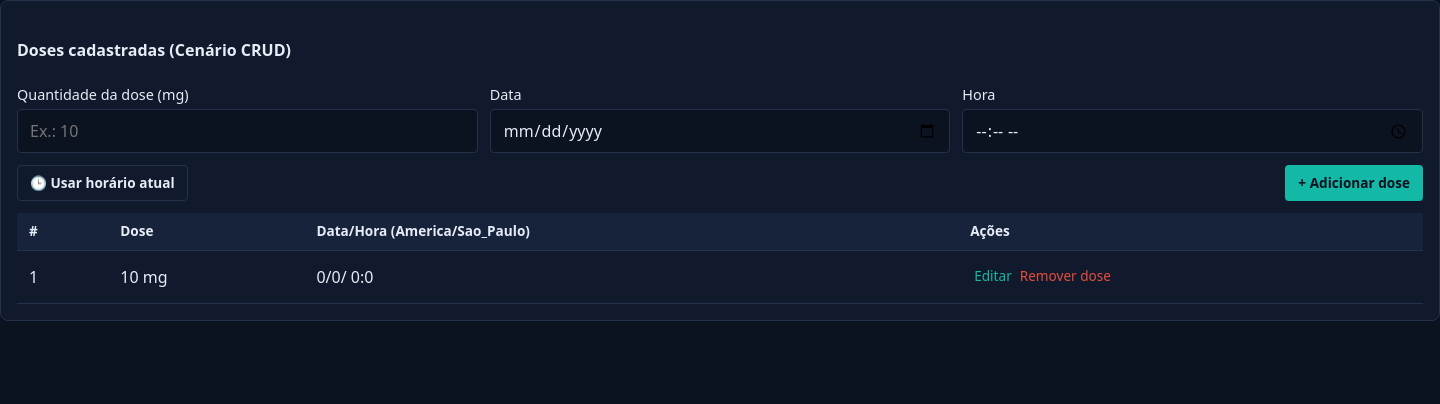
it: E9.2 Regressions RED Phase › Blocker 3 — CRUD de Doses Transacional › ao falhar a adição de nova dose, preserva o draft
Note: Preenche nova dose
Type "50" into the field labelled "Quantidade da dose (mg)" at (247, 131), box [17,109,478,153]
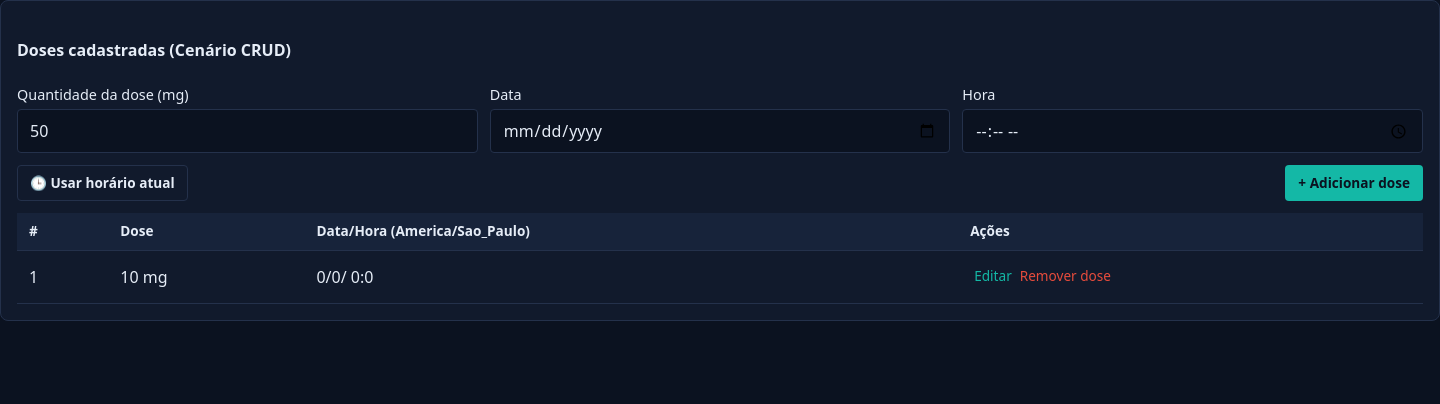
Type "2026-09-02" into the date field labelled "Data" at (720, 131), box [490,109,950,153]
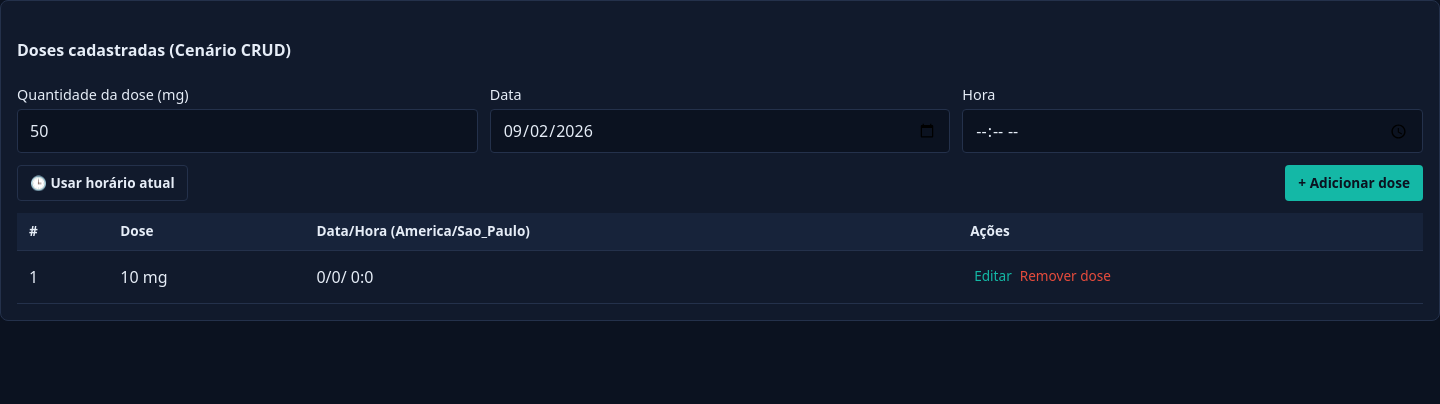
Type "10:00" into the time field labelled "Hora" at (1193, 131), box [962,109,1423,153]
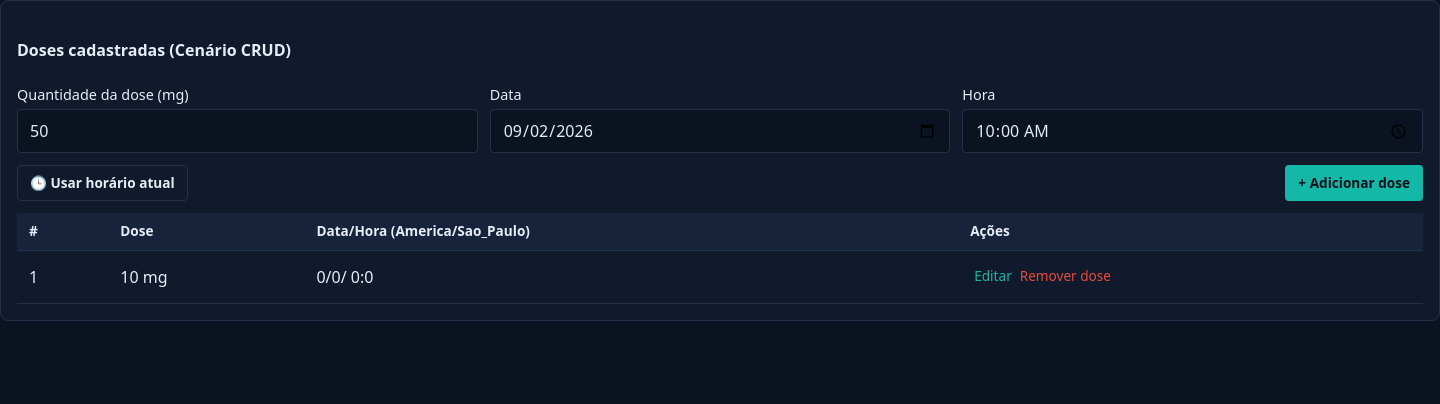
Click the button "+ Adicionar dose" at (1354, 183), box [1285,165,1423,201]
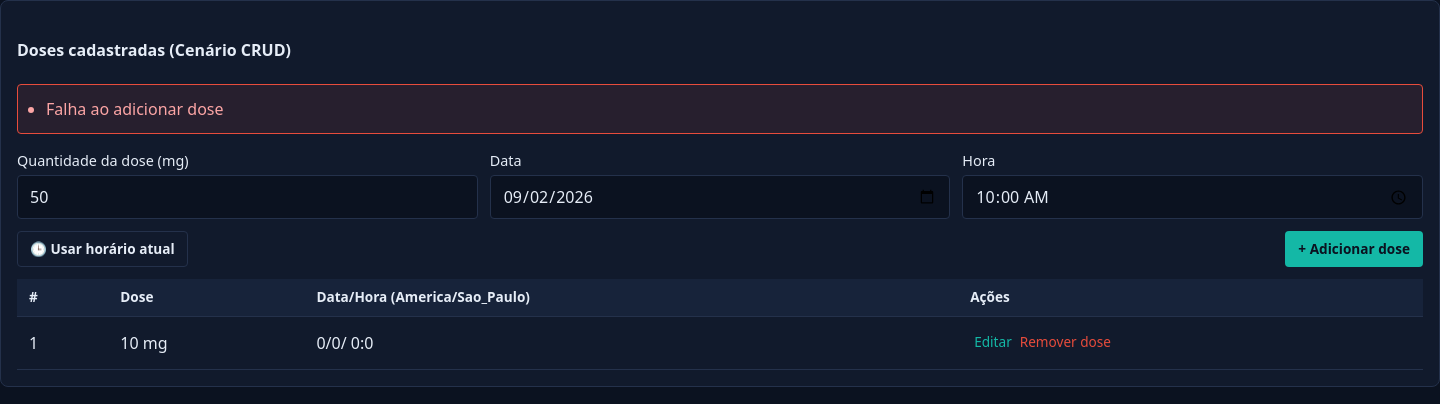
Result: the list item "Falha ao adicionar dose" is shown at [46,98,224,120]
